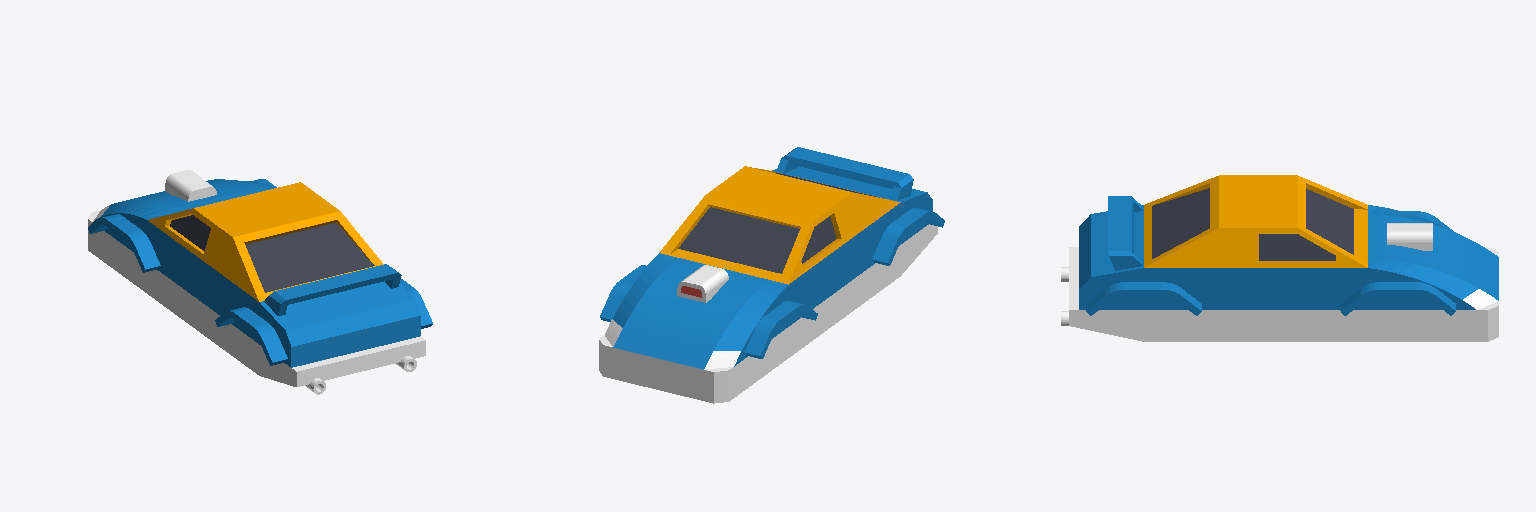
Rendered from Car02.obj.
3 renders of one model, left to right at view 1: azimuth 30°, elevation 25°; view 2: azimuth 150°, elevation 25°; view 3: azimuth 270°, elevation 25°, orthographic.
Parts seen in each view (by area): view 1: Car02; view 2: Car02; view 3: Car02.
Part boxes in pixels (bbox=[...]): Car02: bbox=[88, 170, 432, 394]; Car02: bbox=[599, 147, 944, 403]; Car02: bbox=[1061, 175, 1498, 341].
Size of the model in its own units: 1.24 by 0.8 by 2.92.